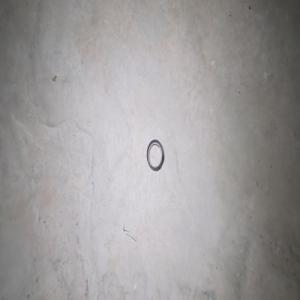Tape: (146, 139, 164, 171)
